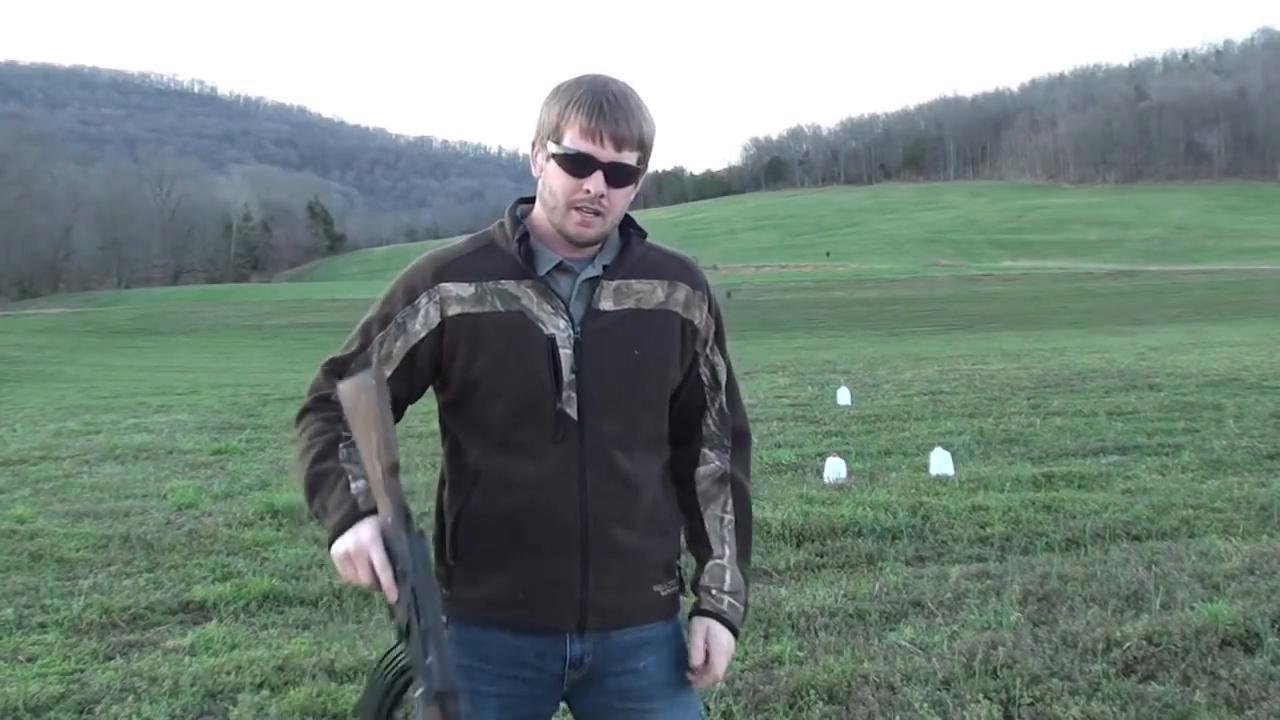AK47 Rifle: (333, 373, 465, 719)
